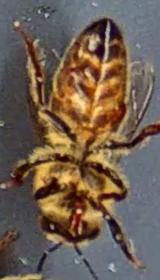varroa_mite: (102, 90, 130, 130)
